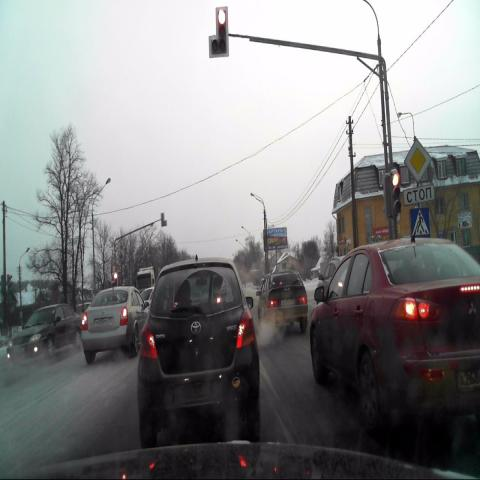2_1: (405, 136, 431, 180)
5_19_1: (410, 206, 432, 241)
6_16: (404, 184, 434, 204)
